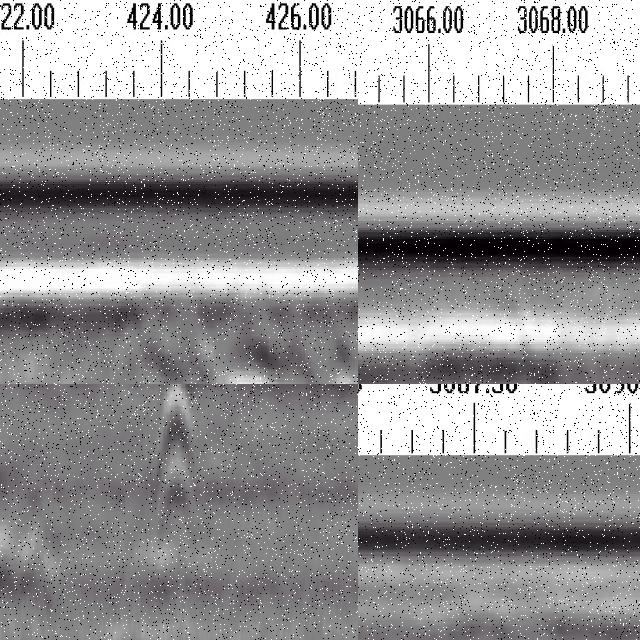crack: (152, 385, 191, 575)
loose: (411, 327, 640, 385)
